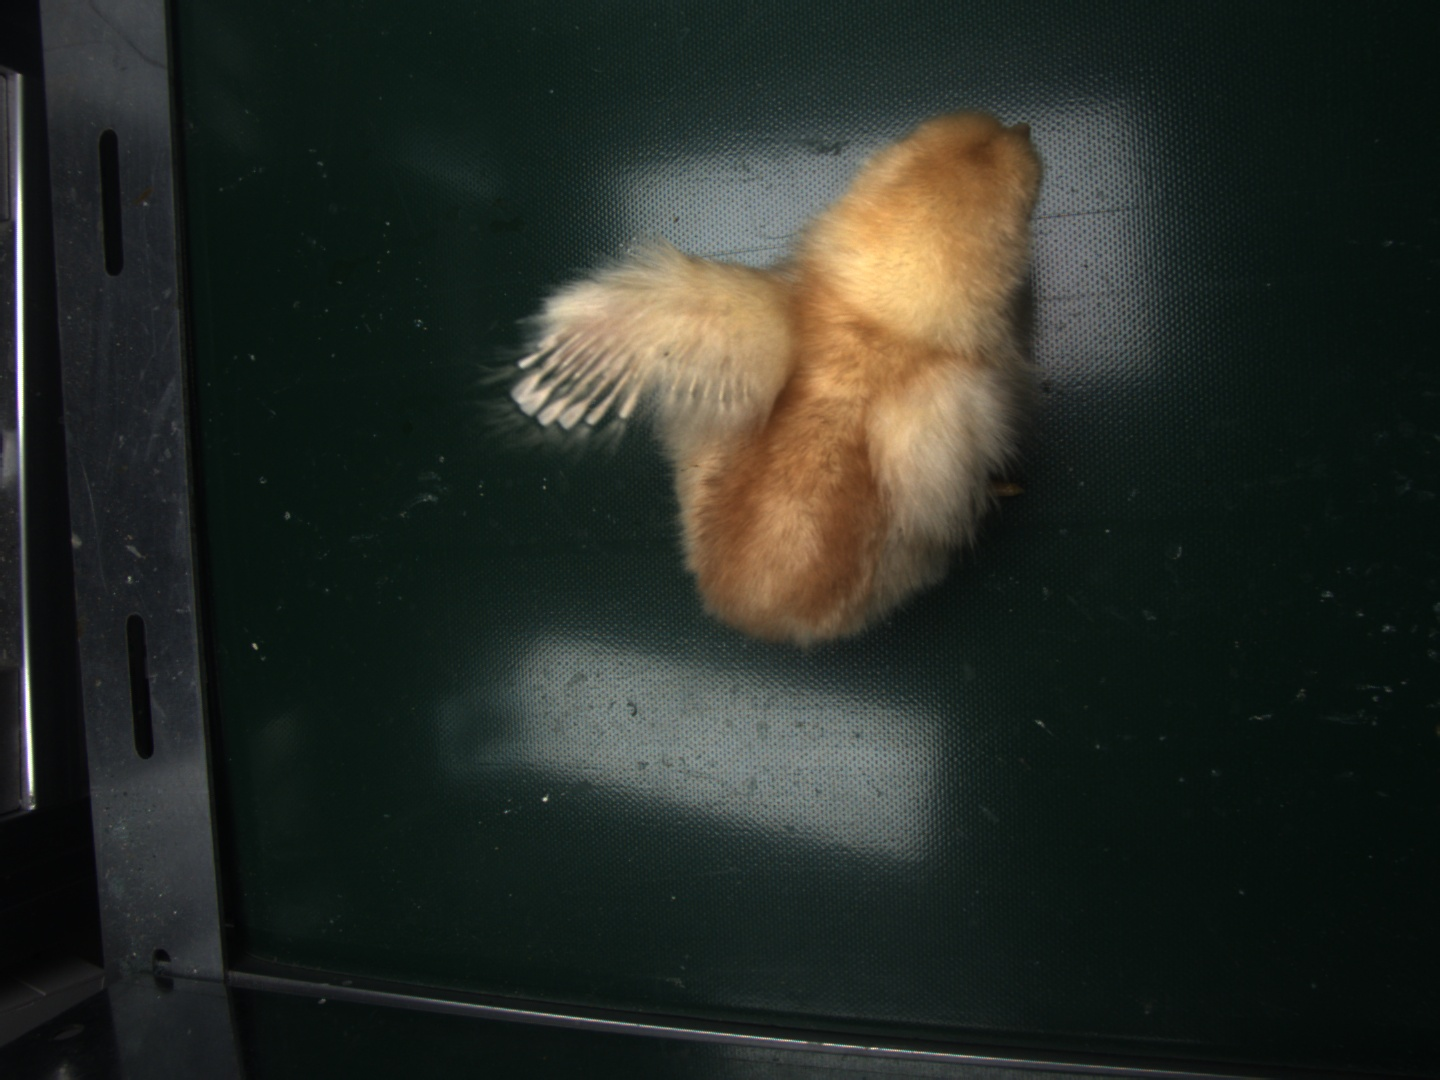female: (513, 330, 643, 427)
